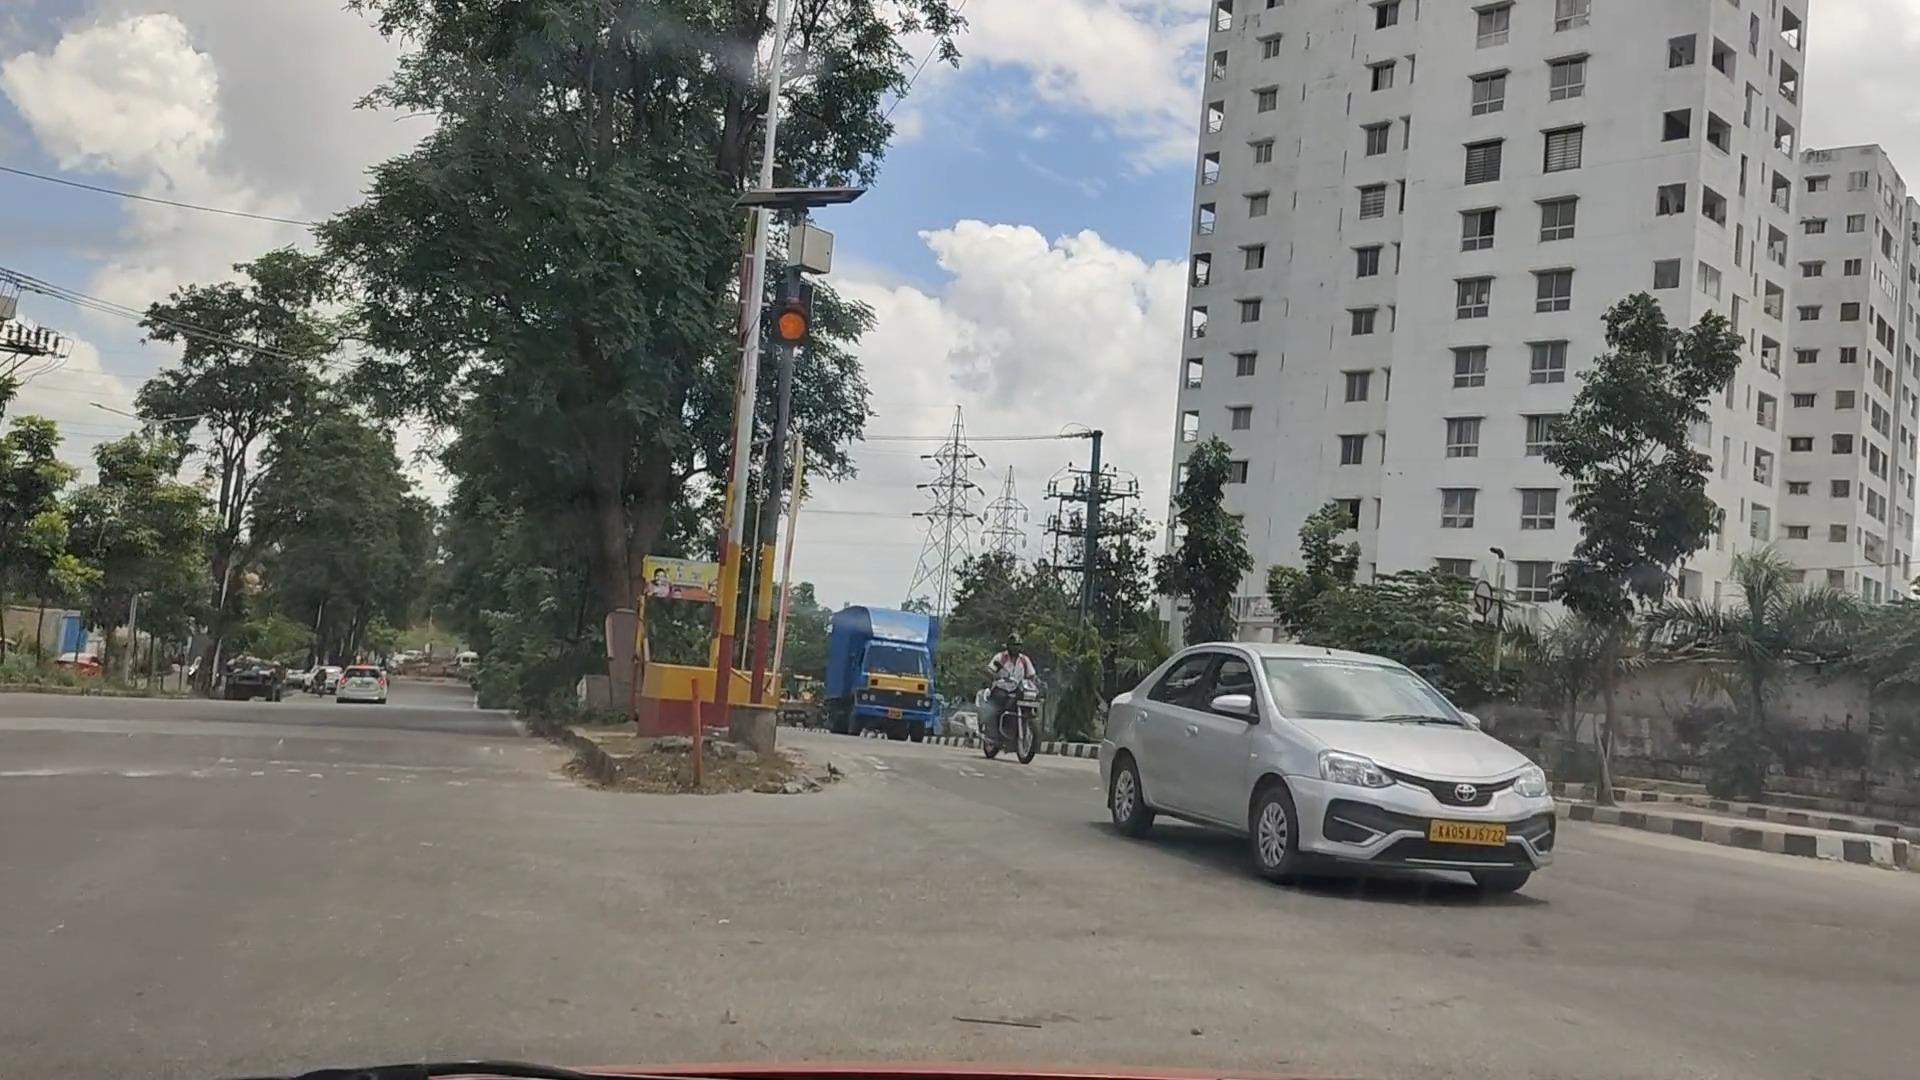LMV: (1112, 636, 1557, 891)
